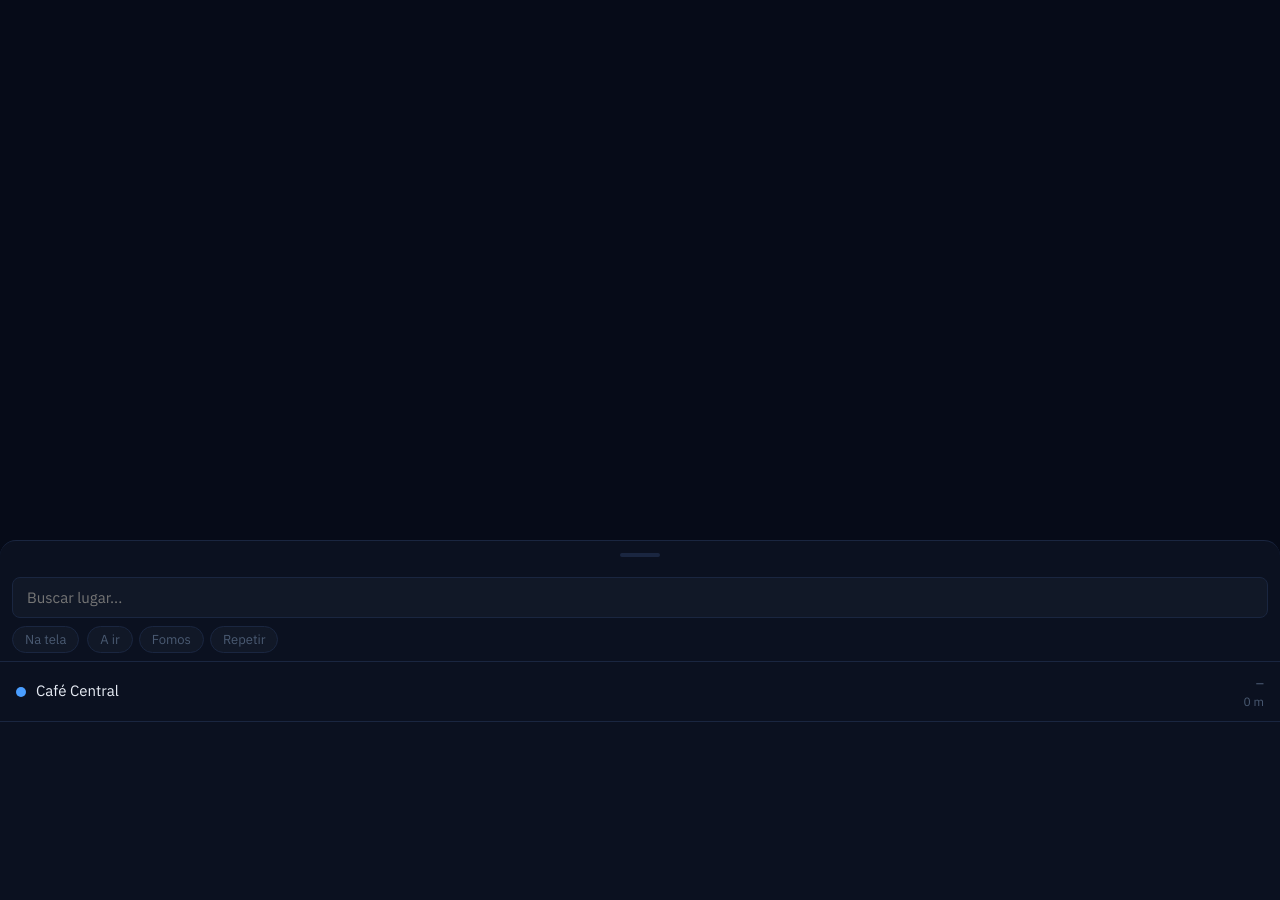
Test: BottomSheet › toggle handle changes aria-label
Click the button named "Expandir lista" at (640, 555), box [0,541,1279,569]
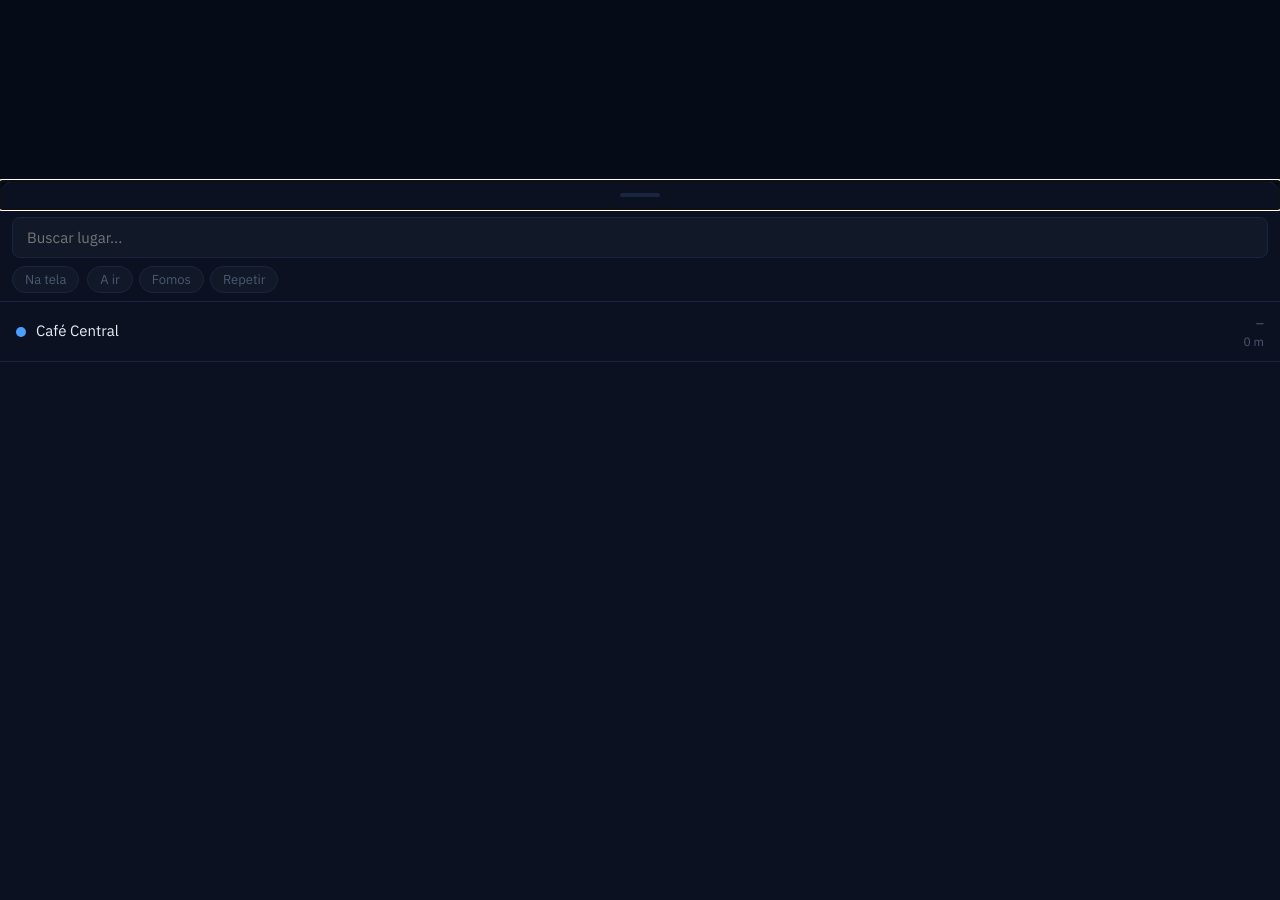
Check: the button named "Recolher lista" is shown, box [0,181,1279,209]
